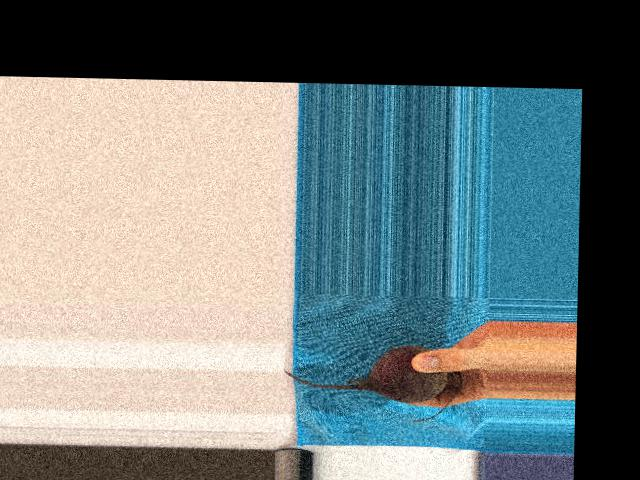beet: (282, 342, 462, 421)
